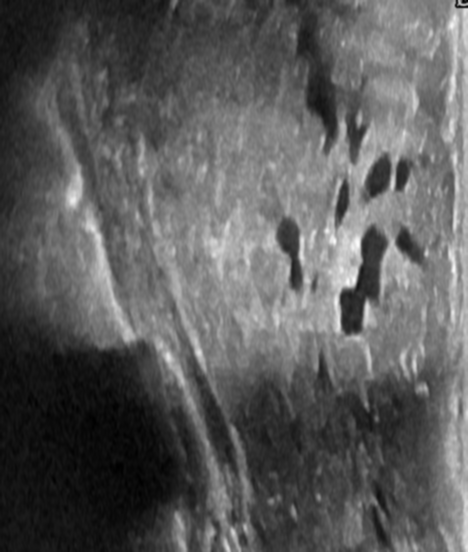Benign: (0, 347, 191, 552)
